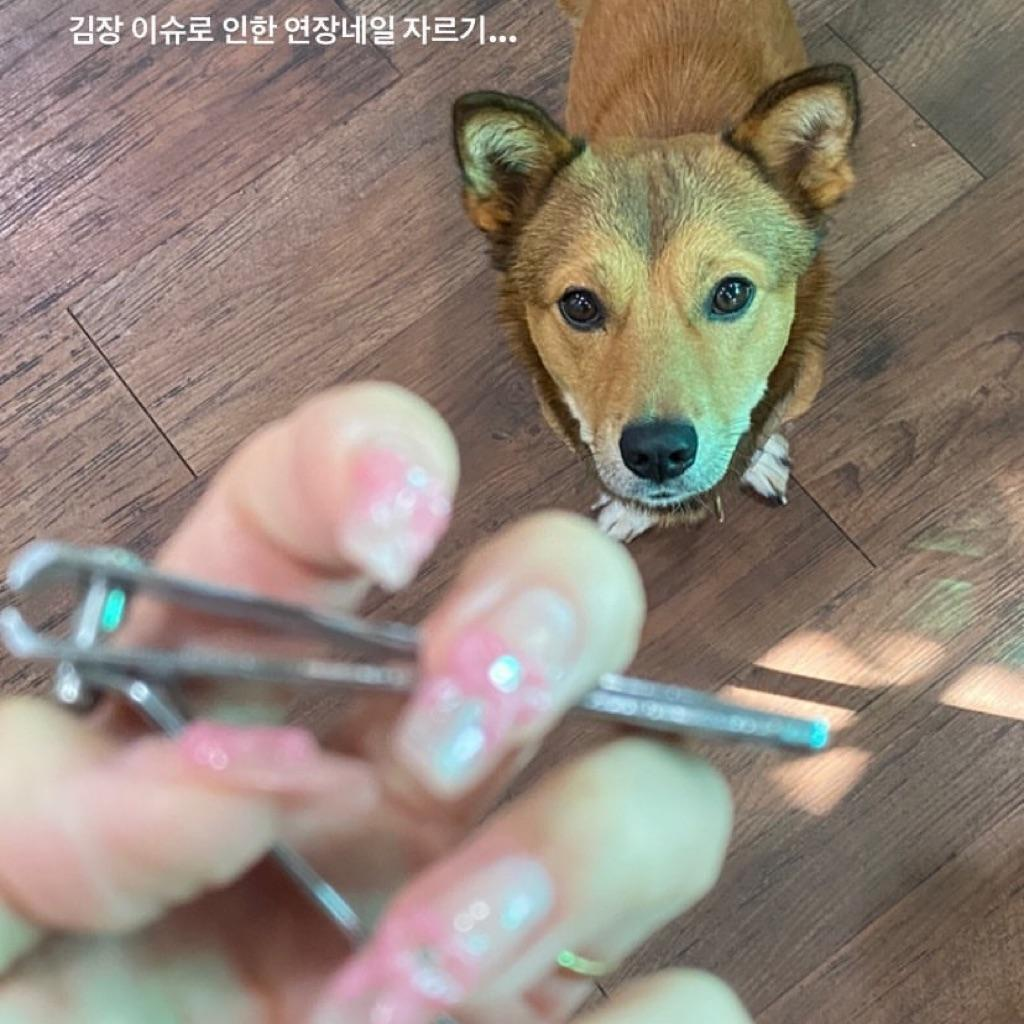nail: (309, 735, 735, 1022), (387, 508, 647, 802), (579, 670, 830, 751)
